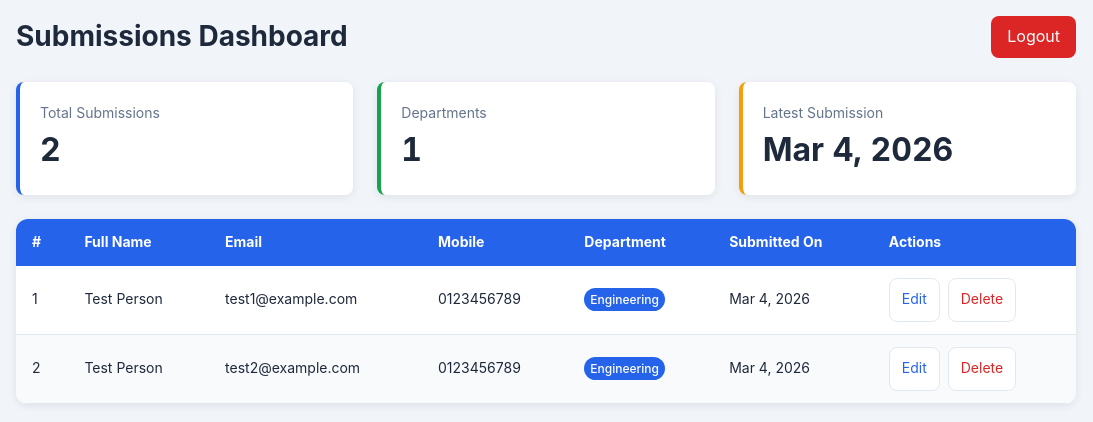
Scenario: dashboard maintenance › refreshes missing target on delete and retains its error
Click the button "Delete" in the row of "test1@example.com".
click(982, 300)  # box left=948, top=278, right=1016, bottom=322
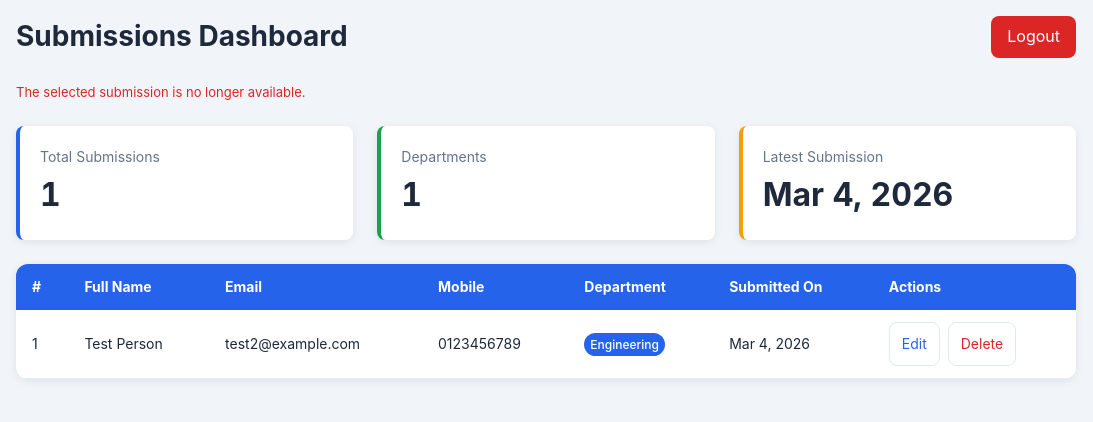
Result: the message reads "The selected submission is no longer available." at left=16, top=84, right=306, bottom=100
Result: the cell "test1@example.com" is gone
